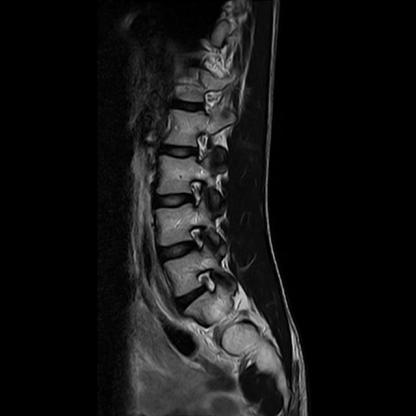Degenerative Disc Diseaserotation: (173, 282, 225, 312)
Disc Bulgerotation: (174, 281, 227, 312)
